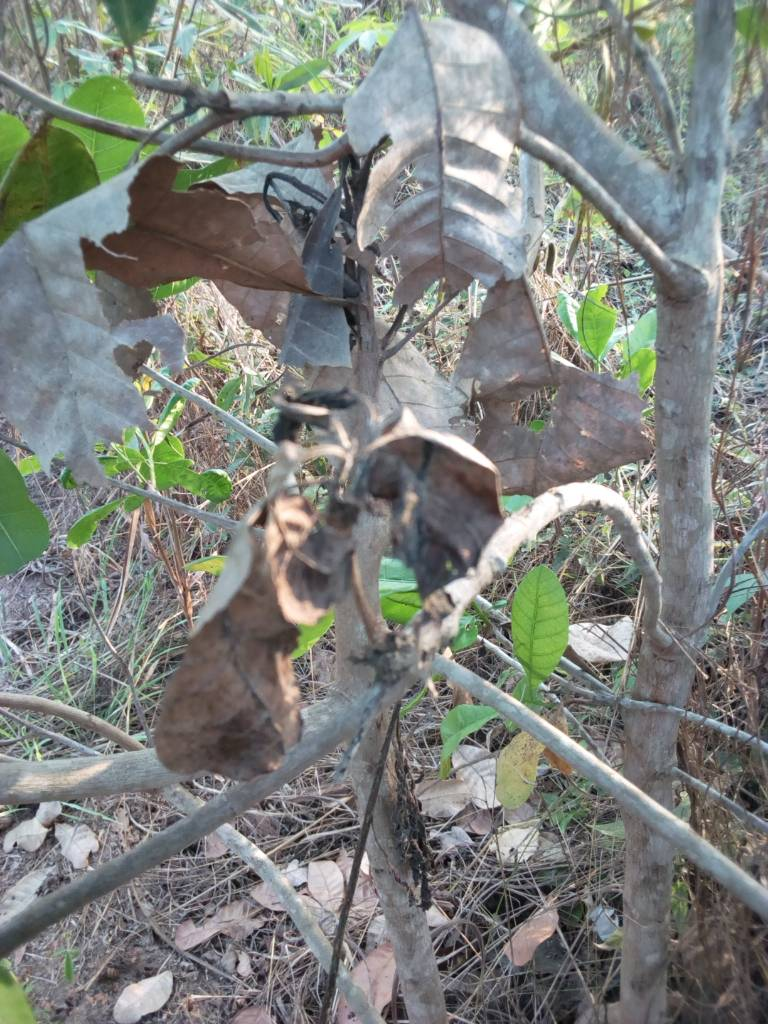Dessèchement des bourgeons: (258, 148, 377, 278), (382, 693, 433, 910)
